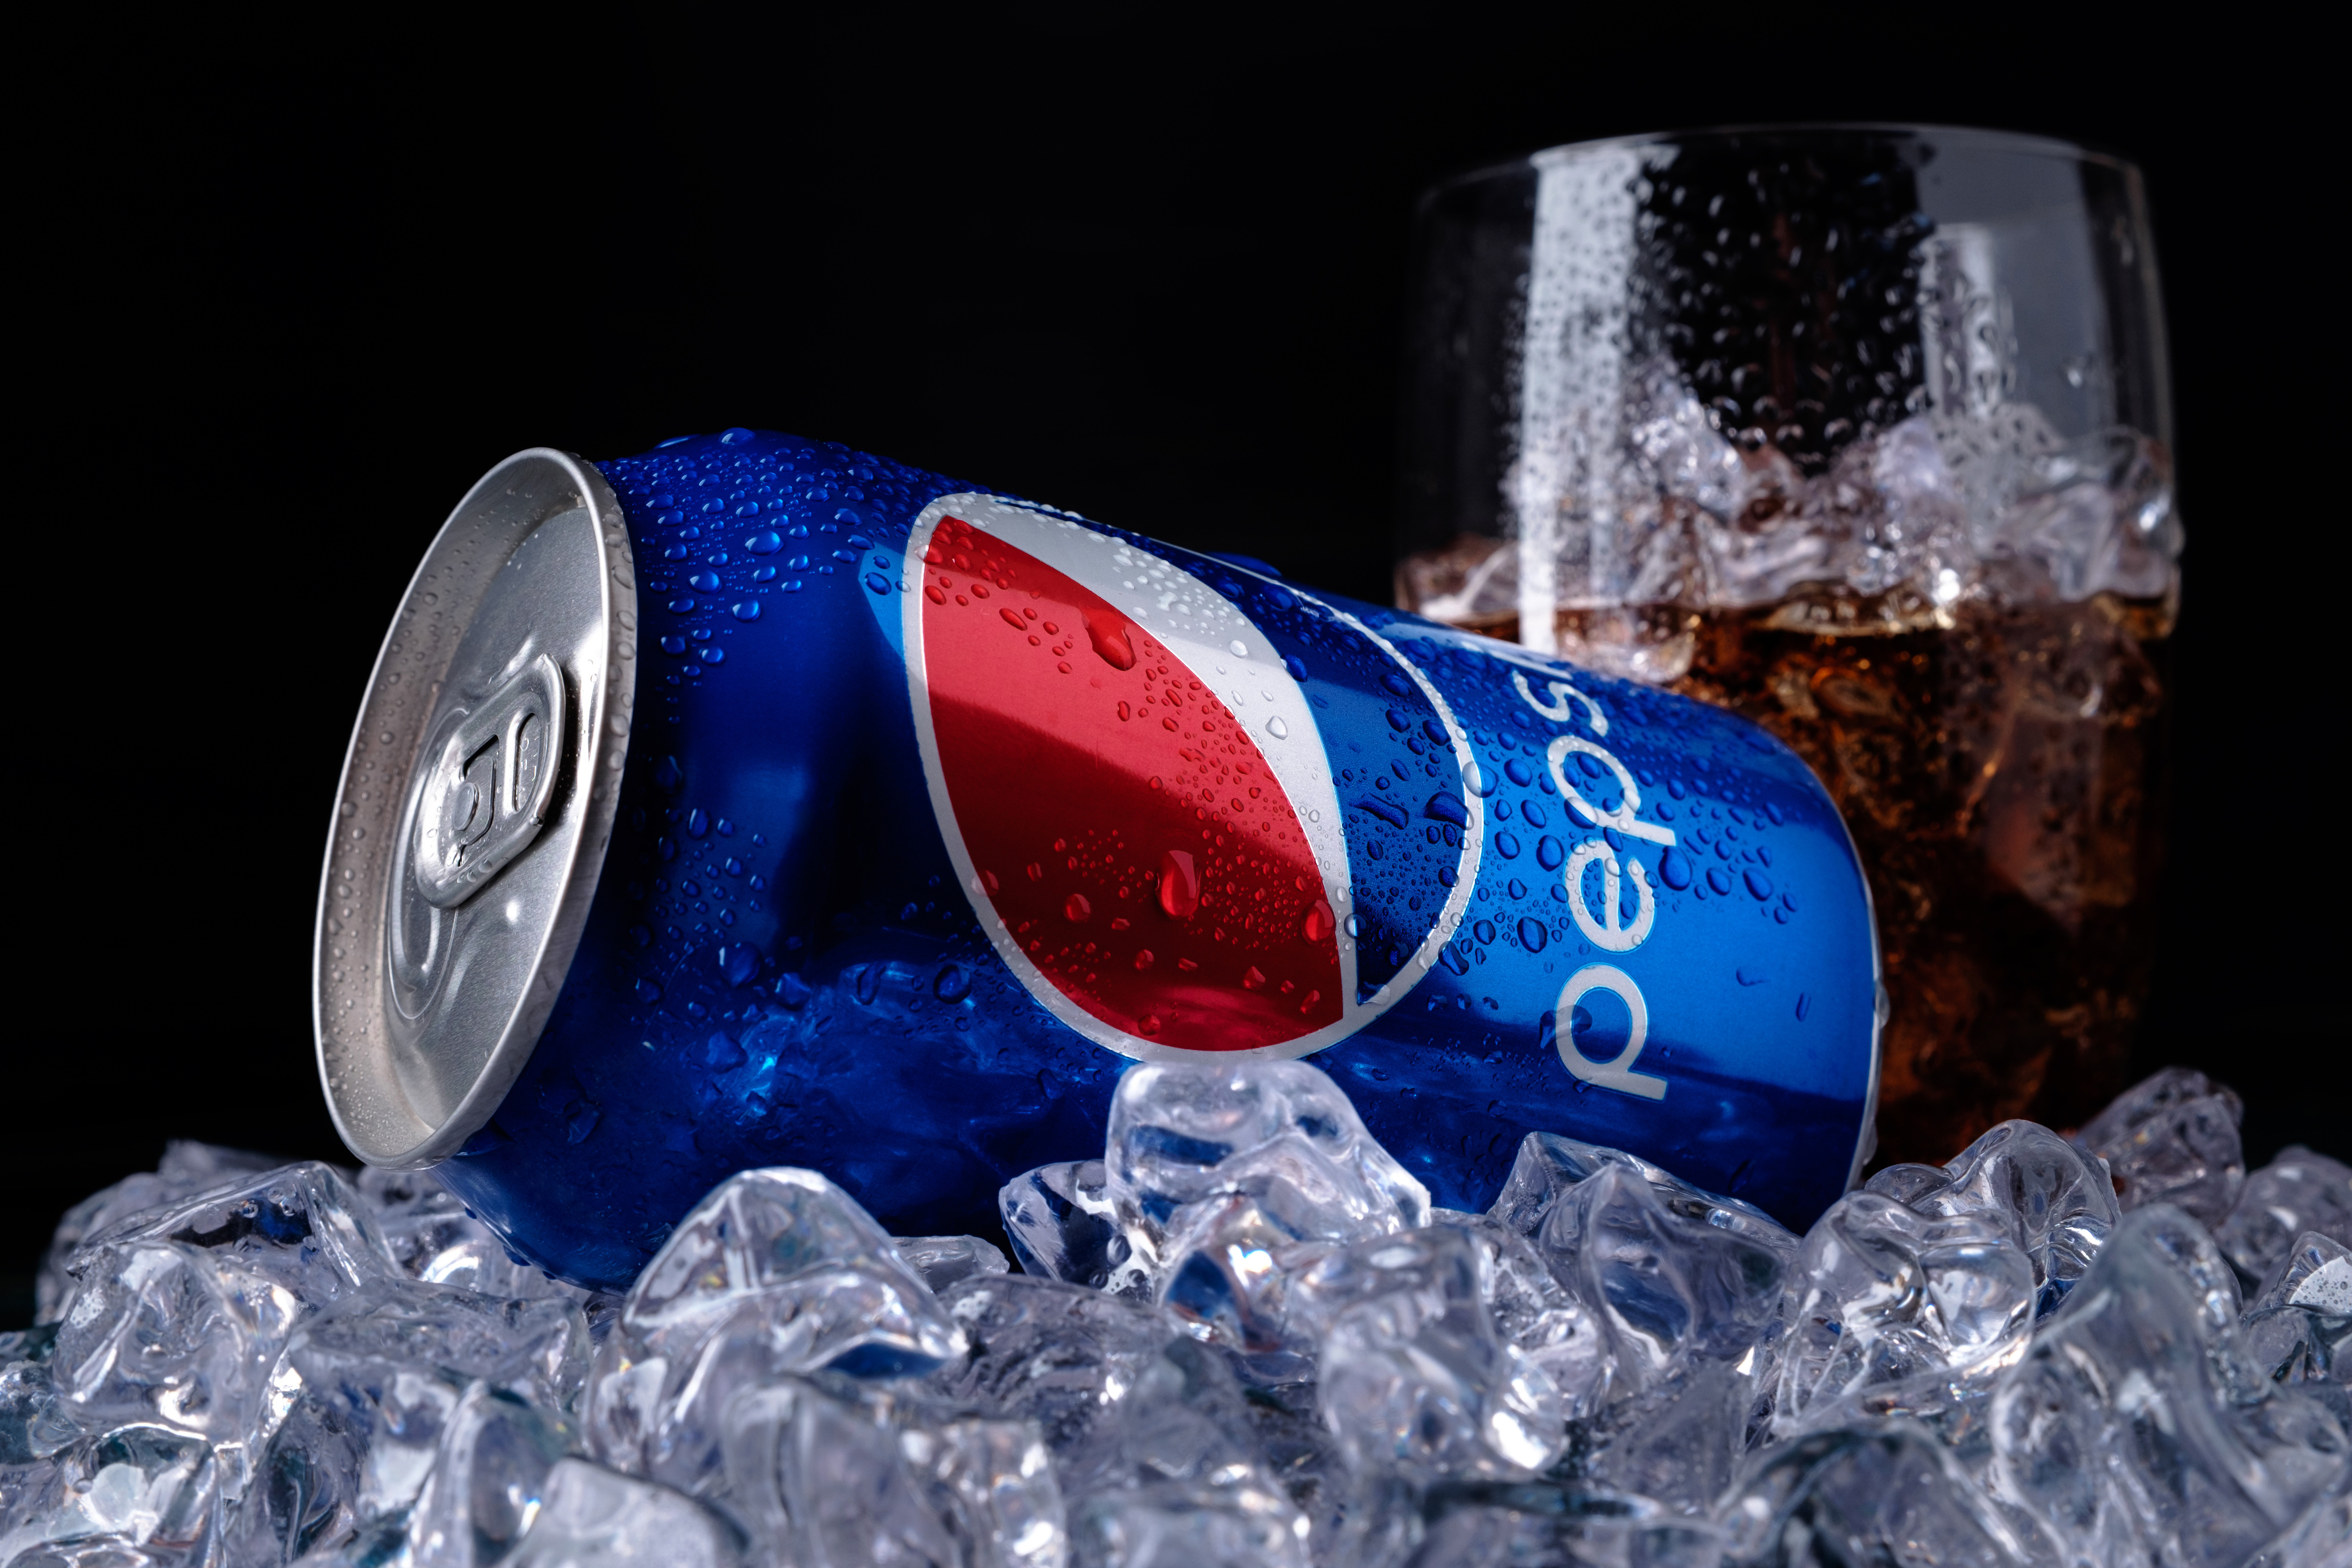pepsi: (894, 474, 1484, 1066)
